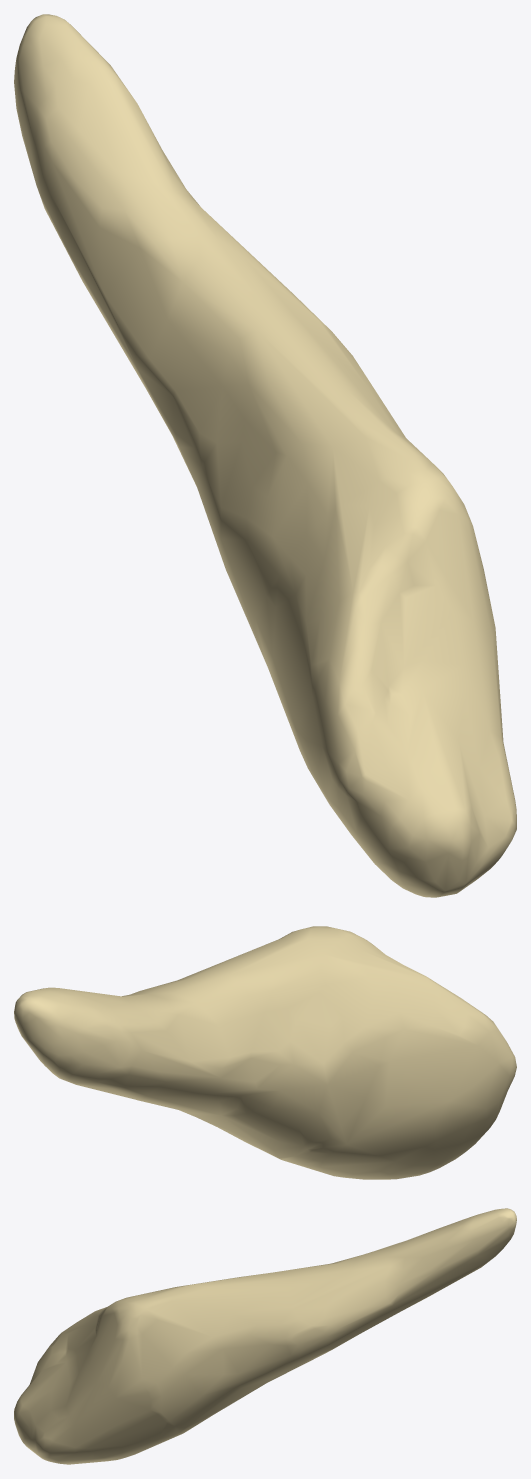
The picture shows the model from 3 angles, top to bottom: view 1: azimuth 30°, elevation 25°; view 2: azimuth 150°, elevation 25°; view 3: azimuth 270°, elevation 25°; orthographic projection. The views are drawn at different scales.
Parts seen in each view (by area): view 1: 右侧下颌尖牙; view 2: 右侧下颌尖牙; view 3: 右侧下颌尖牙.
Boxes of the visible parts, x1,y1,x2,y2 form: 右侧下颌尖牙: (14, 14, 516, 897); 右侧下颌尖牙: (14, 926, 516, 1179); 右侧下颌尖牙: (14, 1208, 516, 1464).
Bounding box in the file's own units: 0.0114 × 0.0224 × 0.0386.
